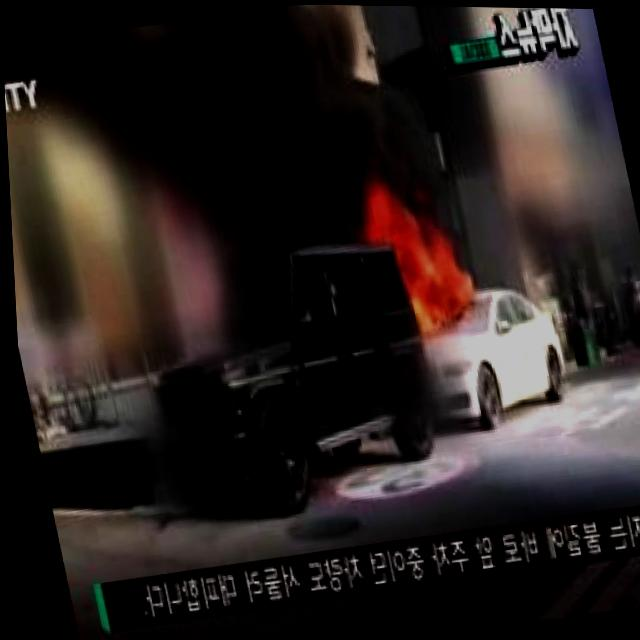Fire: (376, 199, 482, 334)
Smoke: (282, 3, 464, 213)
